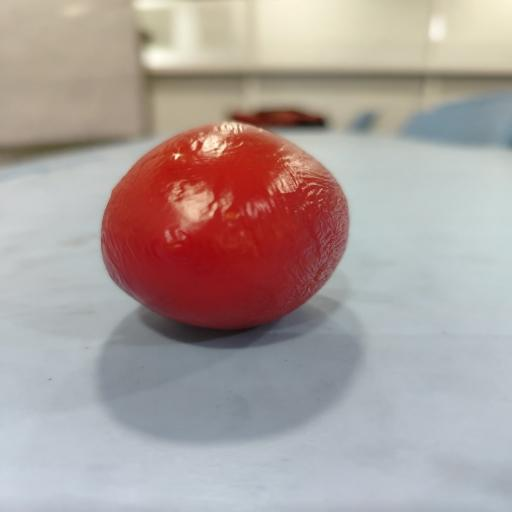spoiled: (101, 122, 348, 329)
